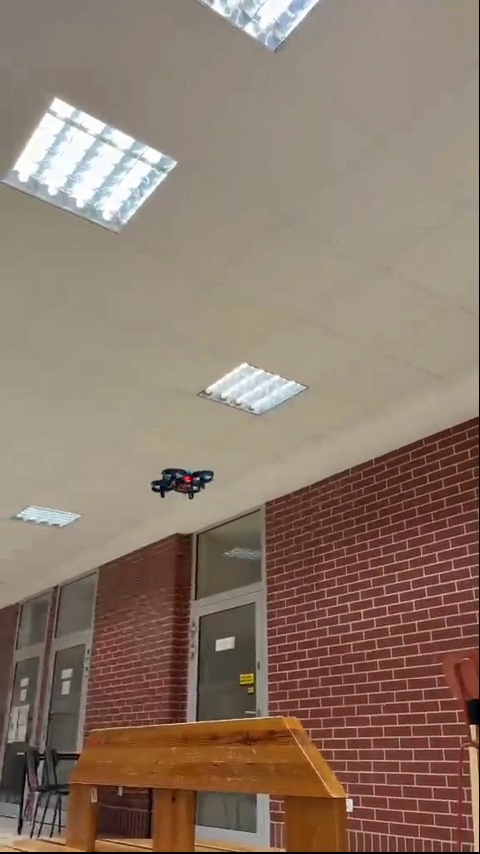drone: (142, 461, 214, 499)
